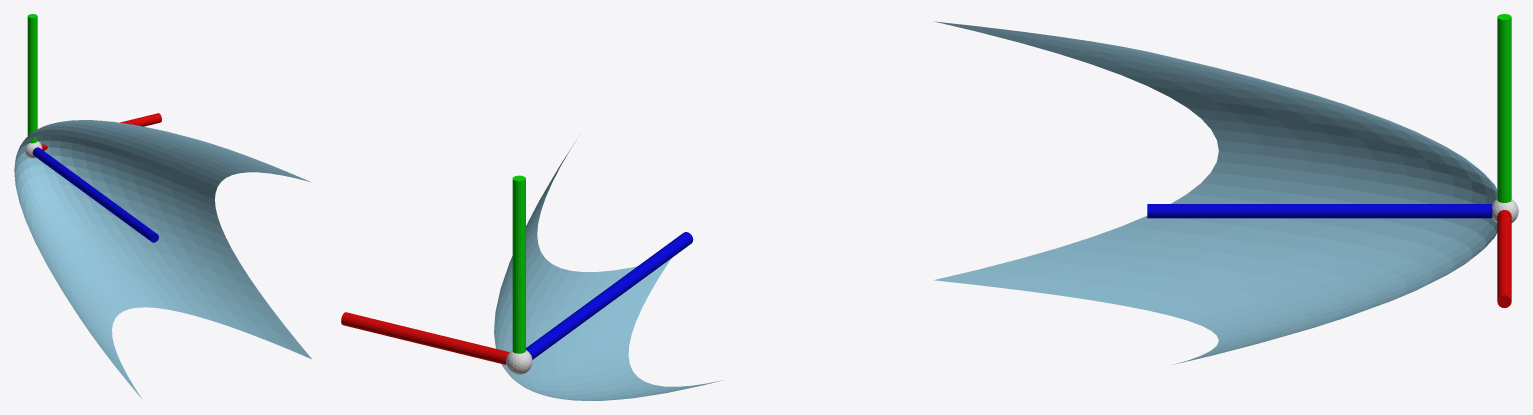
The model's file is 3d_graphs.glb.
The picture shows the model from 3 angles, left to right: view 1: azimuth 30°, elevation 25°; view 2: azimuth 150°, elevation 25°; view 3: azimuth 270°, elevation 25°; orthographic projection. The views are drawn at different scales.
Visible parts, largest first — view 1: world; view 2: world; view 3: world.
Boxes of the visible parts, x1,y1,x2,y2 form: world: (14,14,311,399); world: (341,143,723,400); world: (934,14,1518,365).
Size of the model in its own units: 5 by 5 by 8.2.
